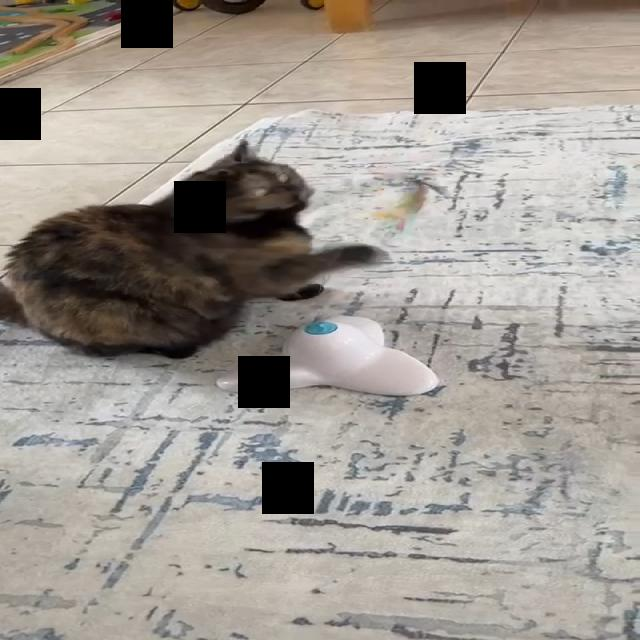authorized: (0, 138, 385, 359)
